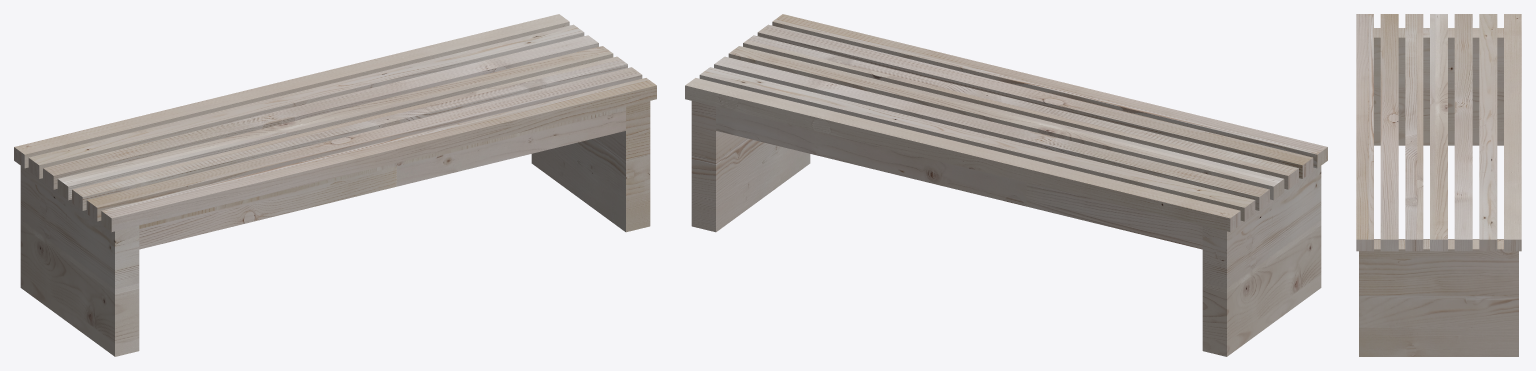
The model's file is Bench.fbx.
The picture shows the model from 3 angles, left to right: view 1: azimuth 30°, elevation 25°; view 2: azimuth 150°, elevation 25°; view 3: azimuth 270°, elevation 25°; orthographic projection. The views are drawn at different scales.
Visible parts, largest first — view 1: Bench; view 2: Bench; view 3: Bench.
Boxes of the visible parts, left/top/right/bottom form: Bench: left=14, top=14, right=656, bottom=356; Bench: left=685, top=14, right=1327, bottom=356; Bench: left=1356, top=14, right=1521, bottom=356.
Bounding box in the file's own units: 224 × 55.38 × 69.56.
